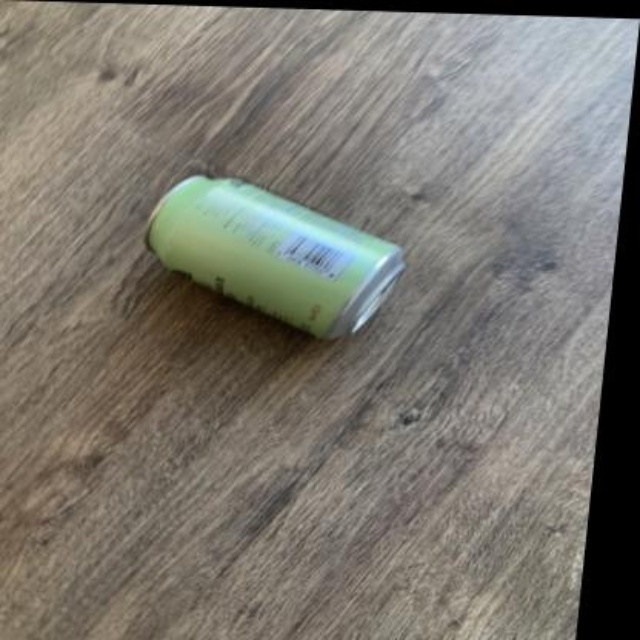trash: (148, 175, 403, 337)
